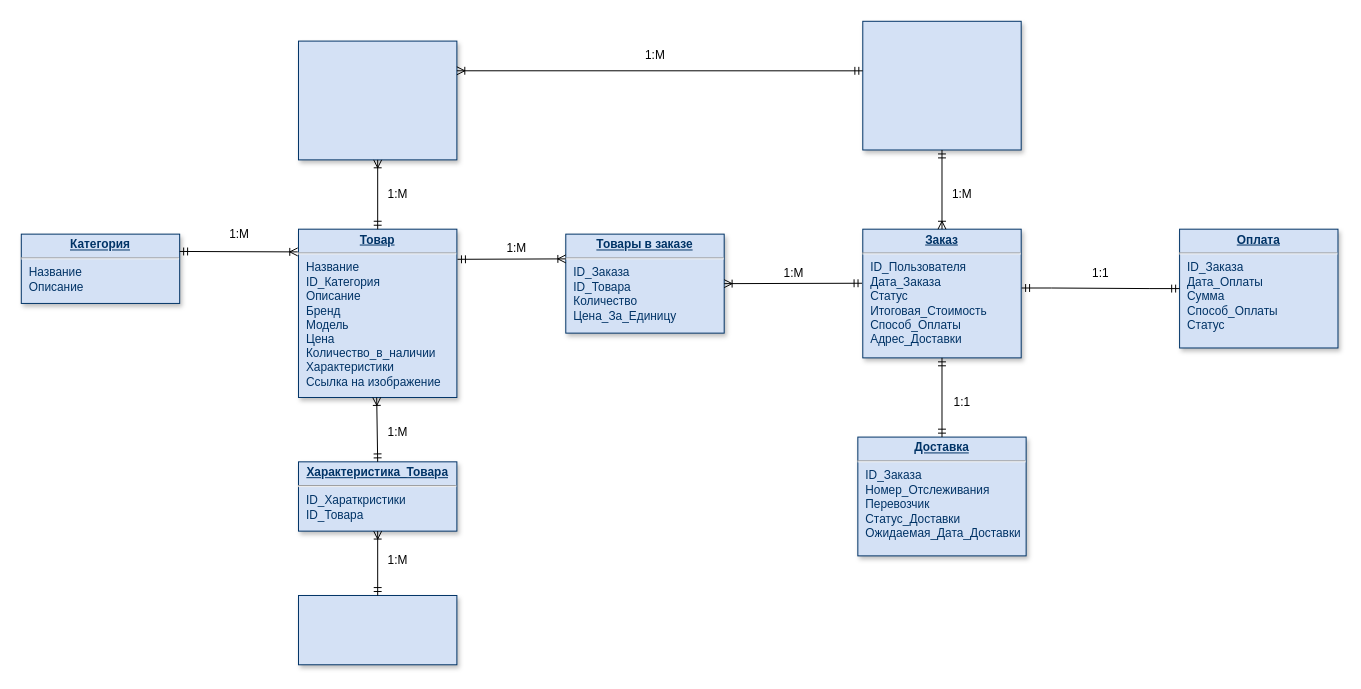
The diagram is 1361 pixels wide and 689 high, and some of its shapes have lost their labels. The centre of each missing label's shape, as x and y in pixels:
"Отзывы ID_Товара ID_Пользователя Оценка Текст_Отзыва Дата_Отзыва" goes at point 378,101.
"Пользователь Логин Электронная_Почта Пароль Номер_Телефона Адрес Заказы" goes at point 942,86.
"Характеристика Название Значение" goes at point 378,631.
